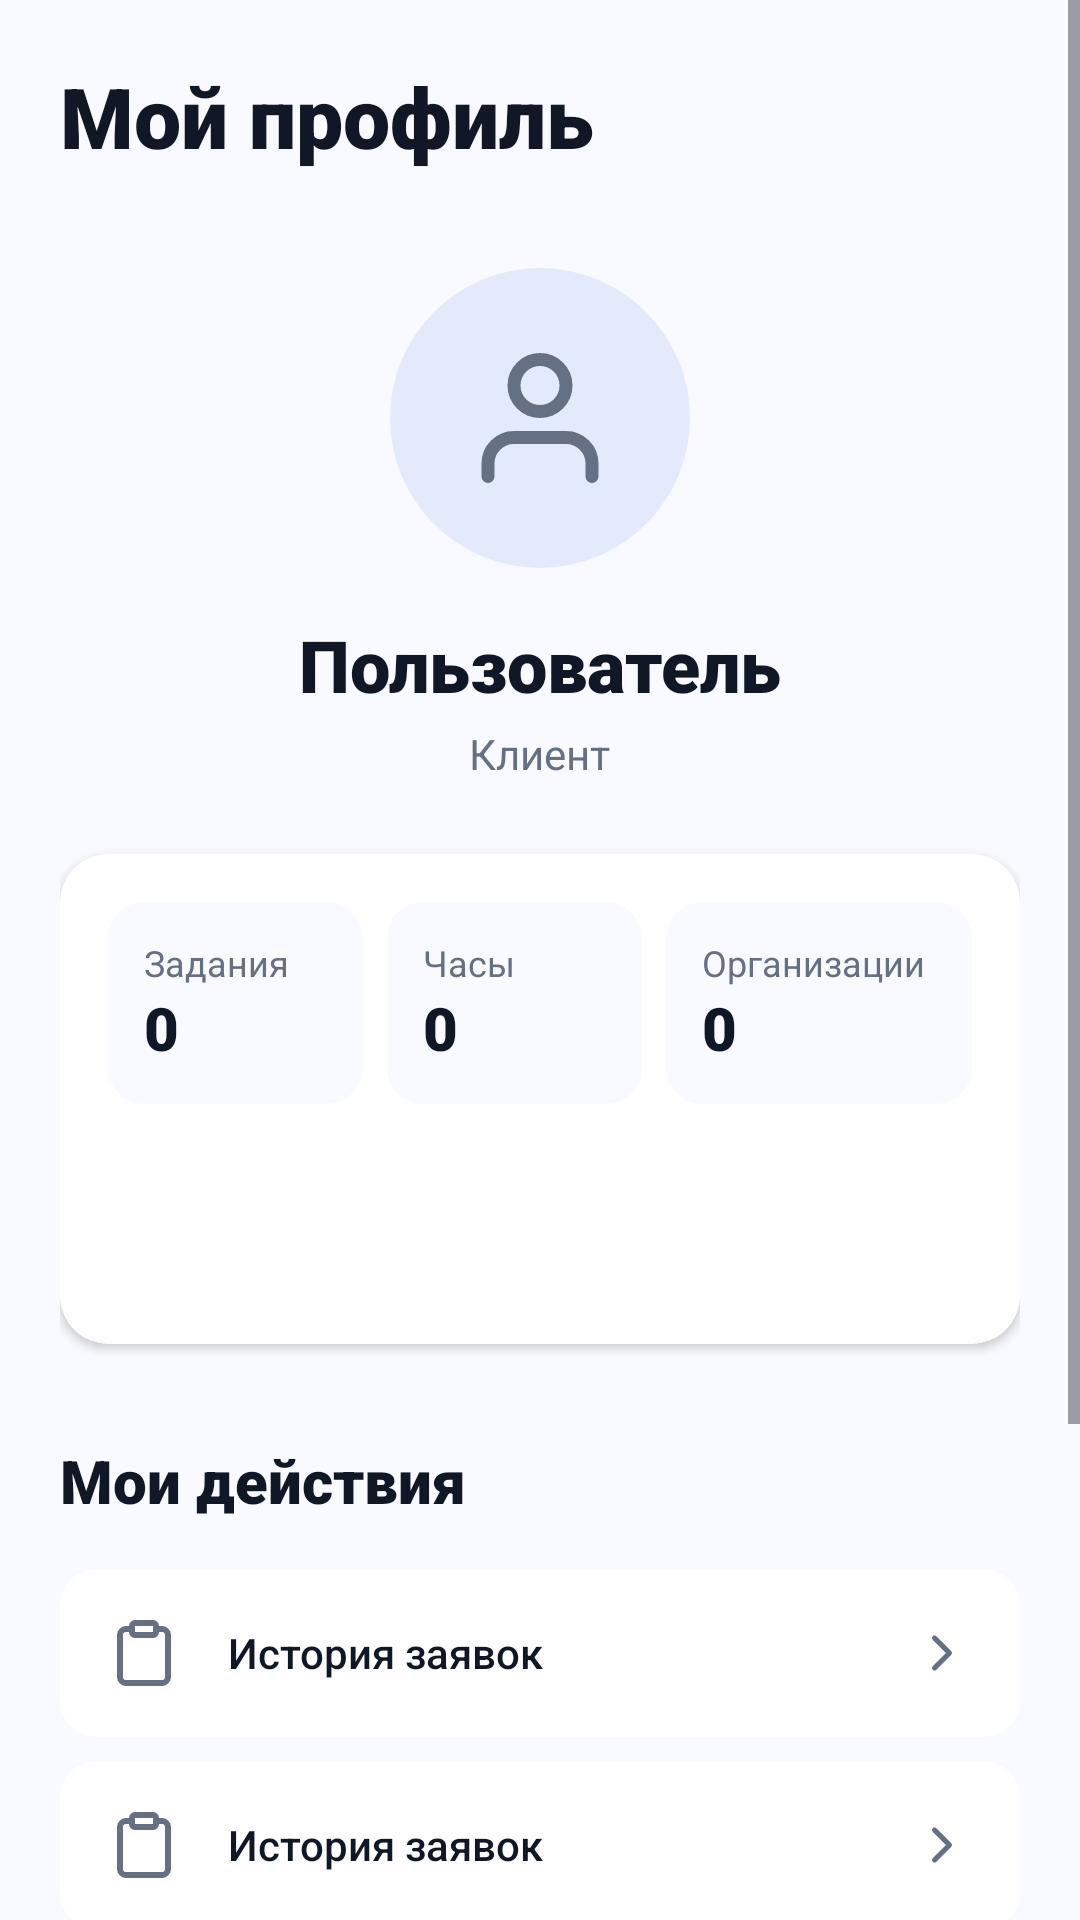

Locate icon controls on the screen. Image size 1080w x 1920h, boxes as bbox=[x1, y1, x2, y2].
chevron right: bbox=[932, 1635, 952, 1671], bbox=[932, 1827, 952, 1863]
clipboard: bbox=[117, 1620, 171, 1686], bbox=[117, 1812, 171, 1878]
person: bbox=[390, 268, 690, 568]
